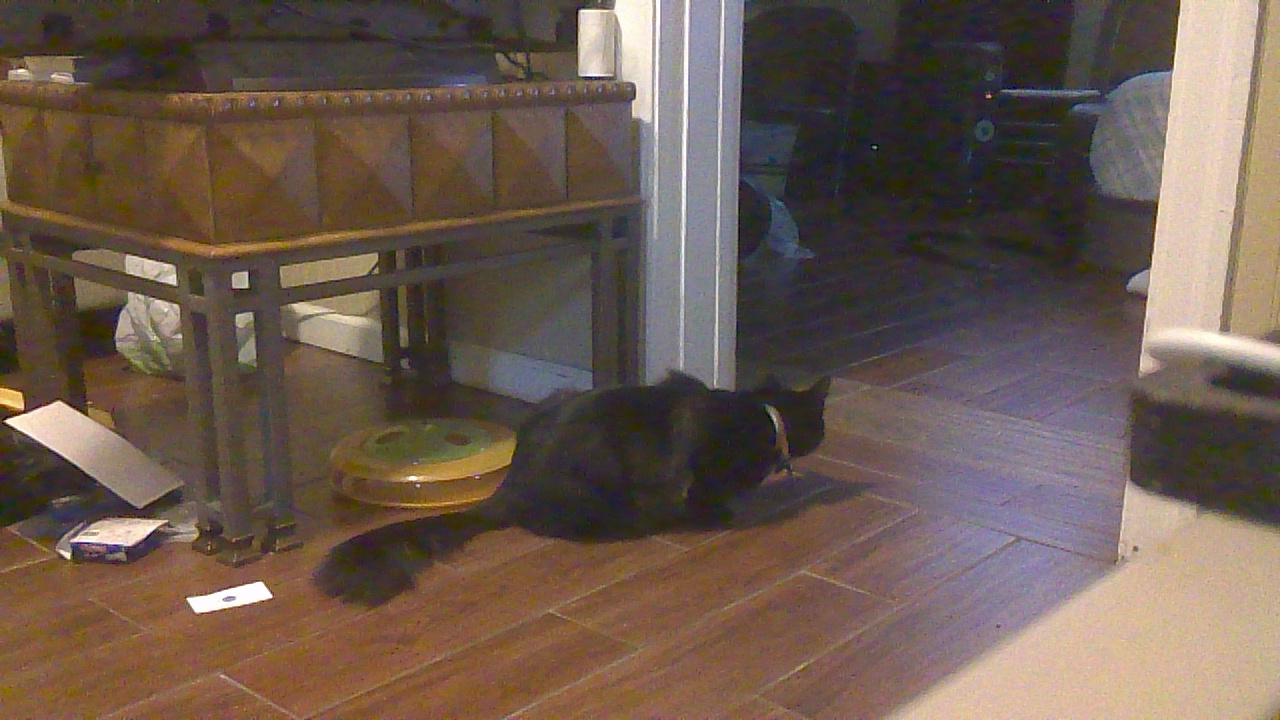cat: (311, 361, 835, 607)
